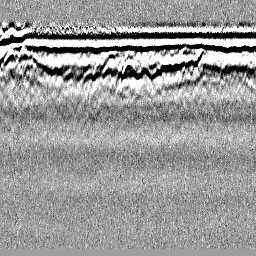cavity: (119, 57, 138, 86)
